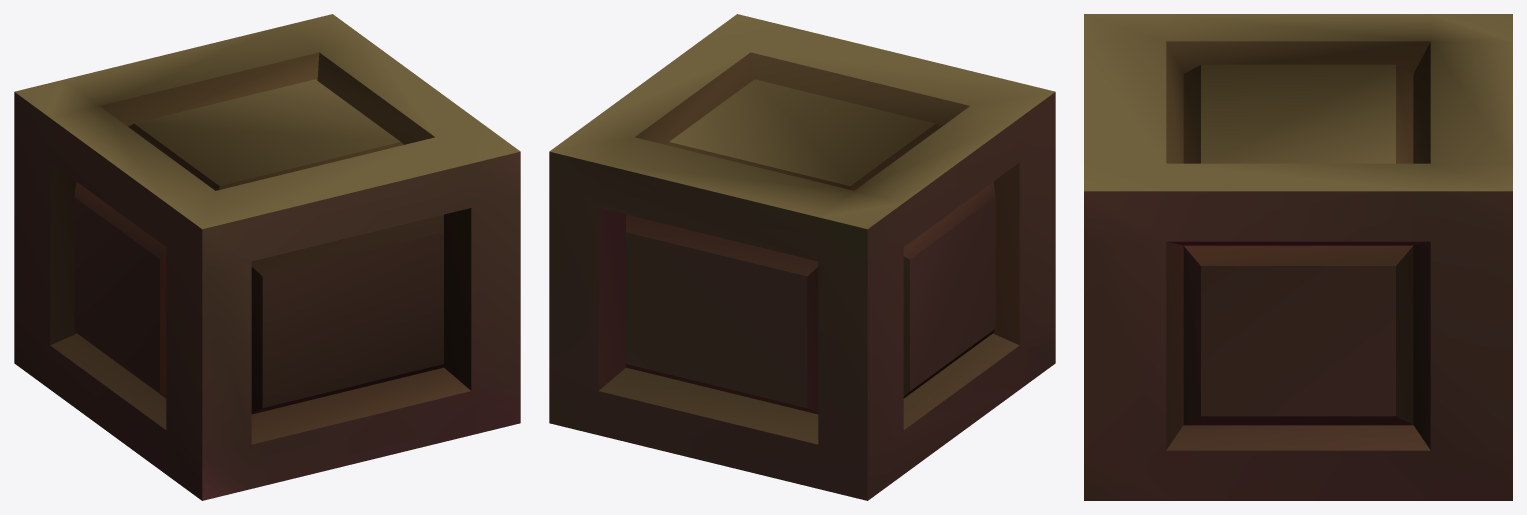
The model's file is small_crate.FBX.
3 renders of one model, left to right at view 1: azimuth 30°, elevation 25°; view 2: azimuth 150°, elevation 25°; view 3: azimuth 270°, elevation 25°, orthographic. The views are drawn at different scales.
Parts seen in each view (by area): view 1: small crate; view 2: small crate; view 3: small crate.
Part boxes in pixels (x1=…): small crate: x1=14, y1=14, x2=520, y2=500; small crate: x1=549, y1=14, x2=1055, y2=500; small crate: x1=1084, y1=14, x2=1512, y2=500.
Size of the model in its own units: 1.18 by 0.9586 by 1.2.
